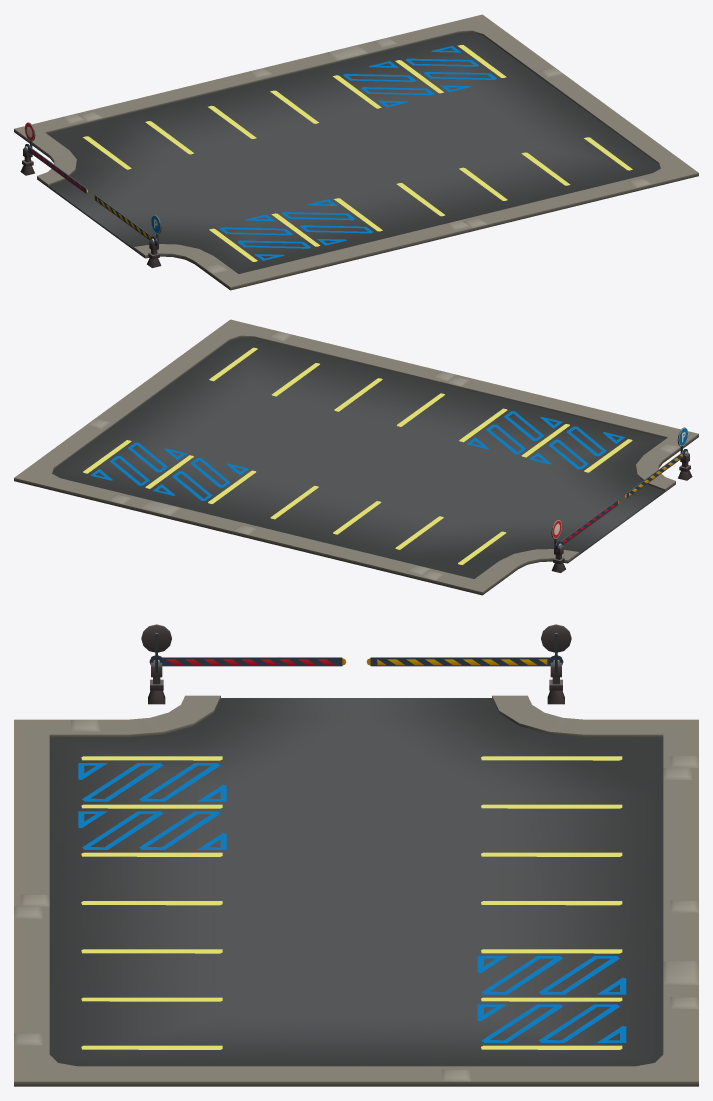
File: tp_parking_01a.glb
3 renders of one model, top to bottom at view 1: azimuth 30°, elevation 25°; view 2: azimuth 150°, elevation 25°; view 3: azimuth 270°, elevation 25°, orthographic. The views are drawn at different scales.
Visible parts, largest first — view 1: TP_Parking_01A; view 2: TP_Parking_01A; view 3: TP_Parking_01A, TP_Parking_01A_Entry_Barrier, TP_Parking_01A_Exit_Barrier.
Boxes of the visible parts, x1,y1,x2,y2 form: TP_Parking_01A: (14,14,698,290); TP_Parking_01A: (14,319,698,595); TP_Parking_01A: (14,624,698,1086); TP_Parking_01A_Entry_Barrier: (149,655,346,666); TP_Parking_01A_Exit_Barrier: (366,655,563,666).
Bounding box in the file's own units: 32.3 × 3 × 24.
Materials: 2 (2 with a texture image).
